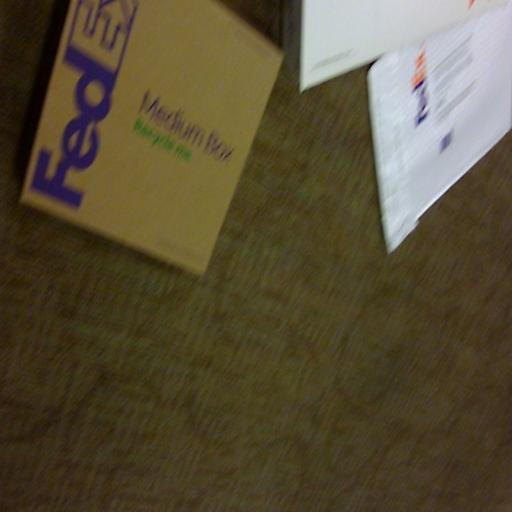Amazon: (22, 0, 284, 278)
